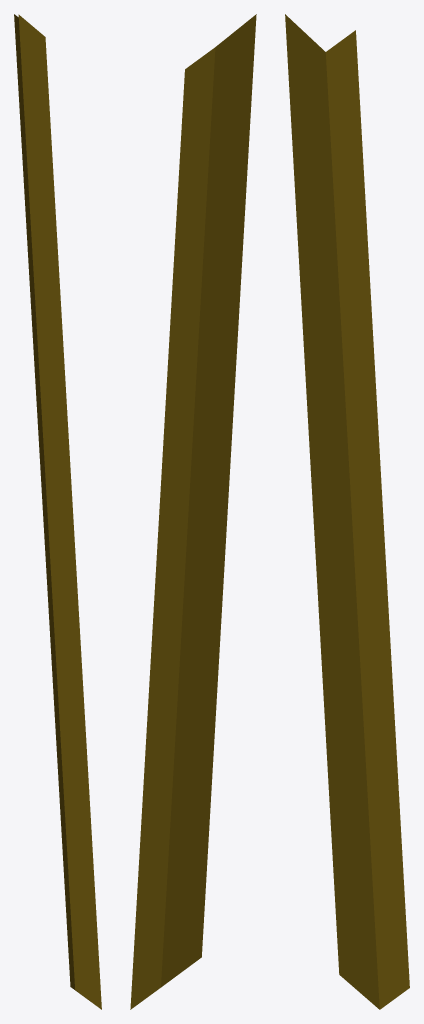
Rendered from Pieza Rota Base Ahnk.fbx.
3 renders of one model, left to right at view 1: azimuth 30°, elevation 25°; view 2: azimuth 150°, elevation 25°; view 3: azimuth 330°, elevation 25°, orthographic. The views are drawn at different scales.
Parts seen in each view (by area): view 1: pCube3; view 2: pCube3; view 3: pCube3.
Part boxes in pixels (left/top/right/bottom): pCube3: left=14, top=14, right=101, bottom=1009; pCube3: left=130, top=14, right=256, bottom=1009; pCube3: left=285, top=14, right=409, bottom=1009.
Bounding box in the file's own units: 0.2179 × 2.34 × 0.1626.
